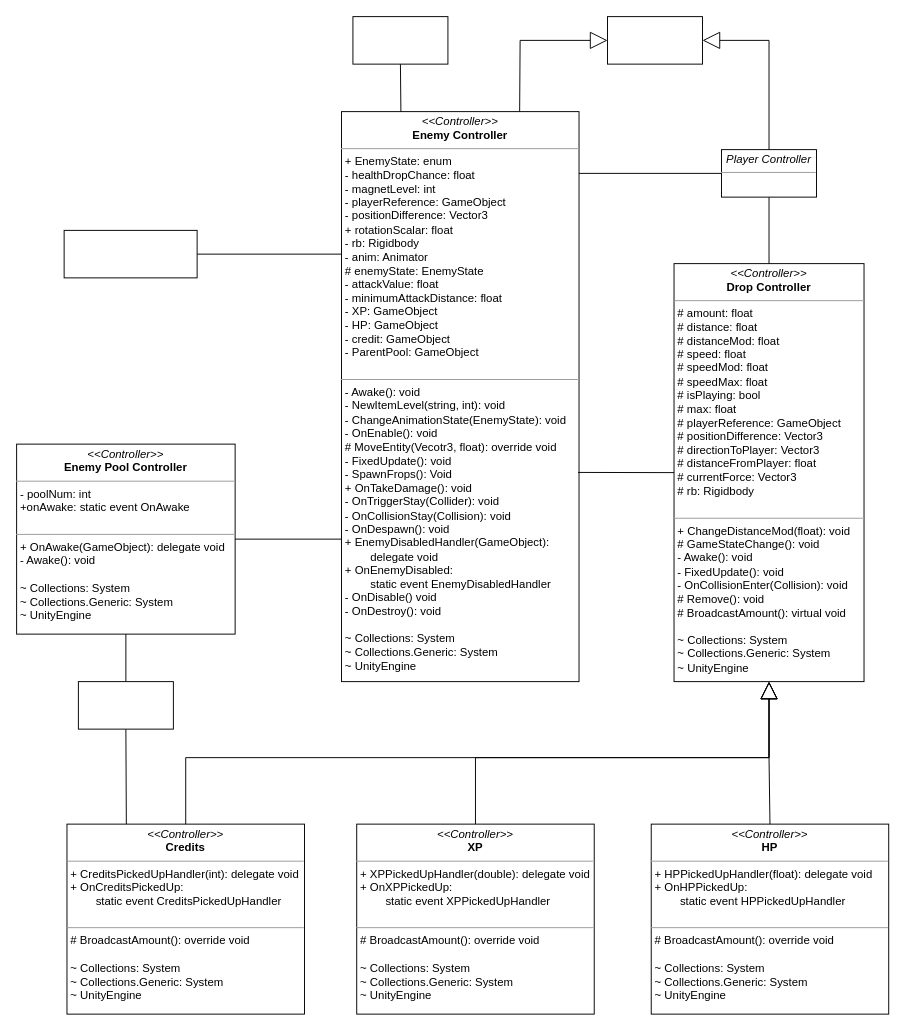
This 905x1031 diagram has some shape labels left out. The centre of each missing label's shape, as x and y in pixels:
"Entity Controller" belongs at pixel 655 40.
"GameManager" belongs at pixel 125 705.
"Item Data" belongs at pixel 400 40.
"Player Bullet Controller" belongs at pixel 130 253.
